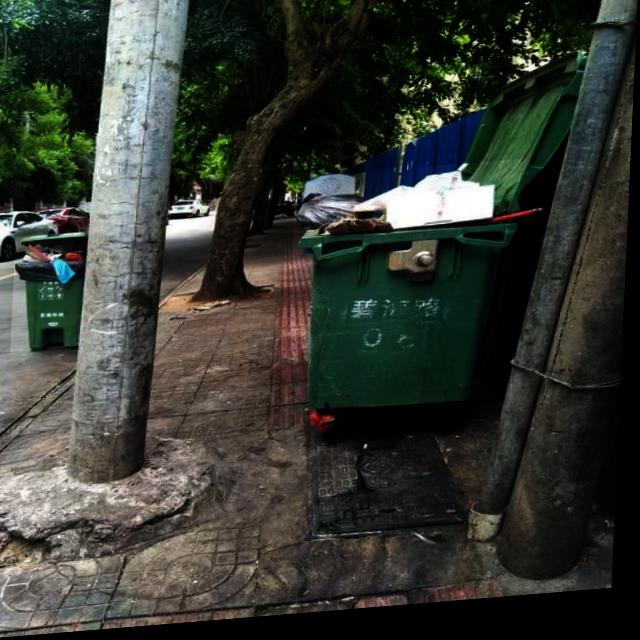overflow: (290, 168, 524, 420), (14, 233, 88, 352)
